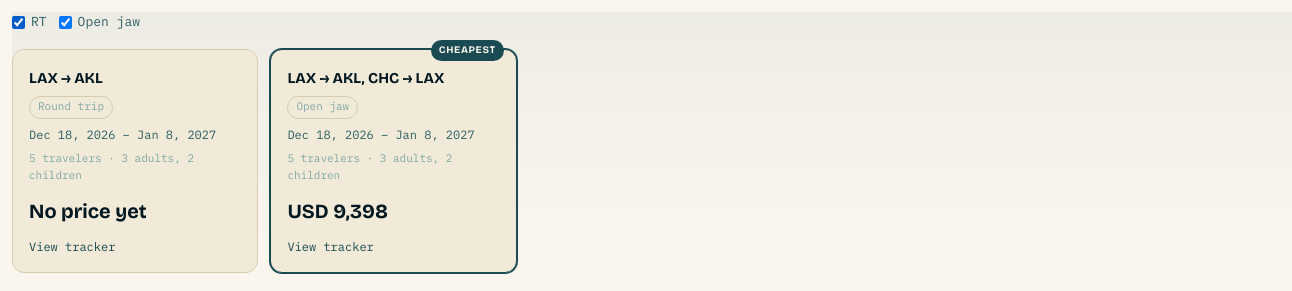
Test: OptionComparison › removes a tracker from the comparison grid when its checkbox is unchecked
Expected: the element with test id "comparison-card-rt-1" is shown, [12, 49, 258, 273]
Click the checkbox labelled "RT": (18, 22) [12, 16, 25, 29]
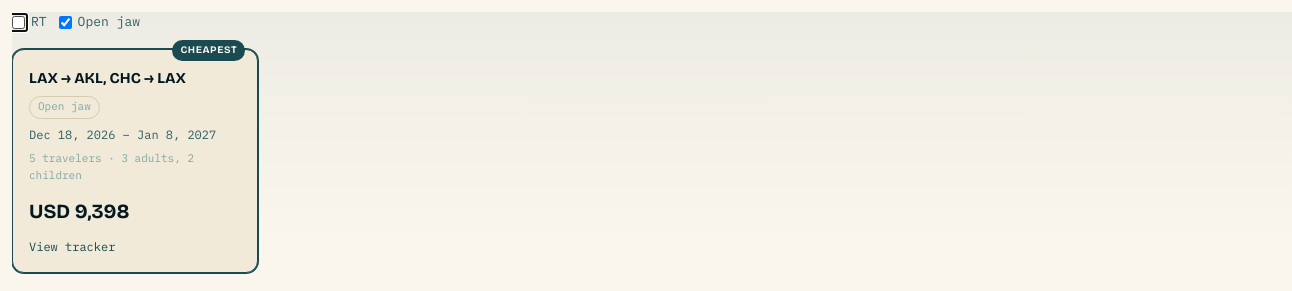
Expected: the element with test id "comparison-card-oj-1" is shown, [12, 49, 258, 273]
Result: the element with test id "comparison-card-rt-1" is gone
